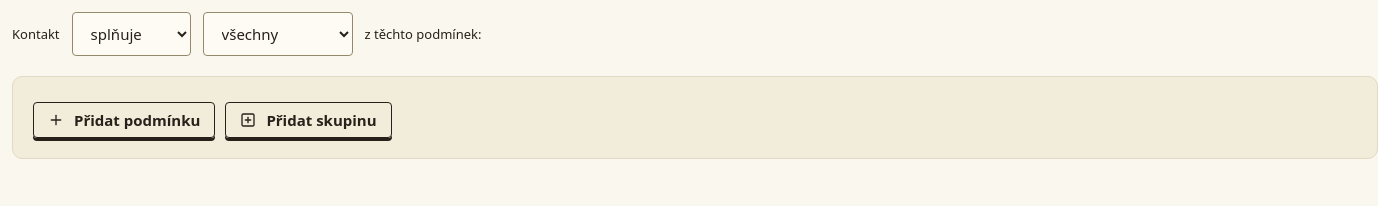
QueryBuilder › negaci jde zapnout a zobrazí vysvětlující řádek
Select "nesplňuje" in the dropdown named "splňuje" at coordinates (131, 34), box [72,12,191,56]
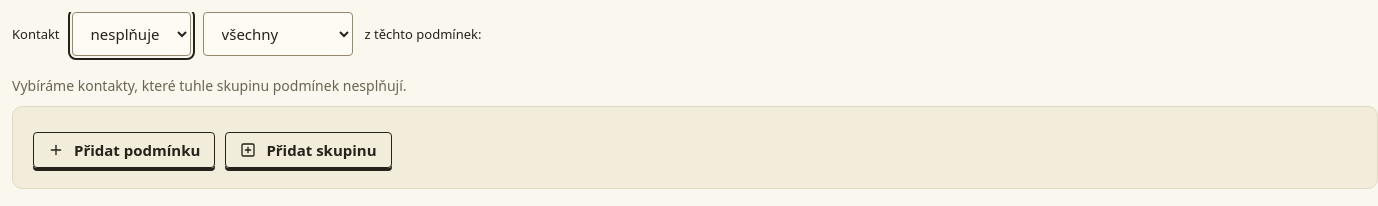
expect the text "Vybíráme kontakty, které tuhle skupinu podmínek nesplňují." is shown: met, box [12,76,406,95]
